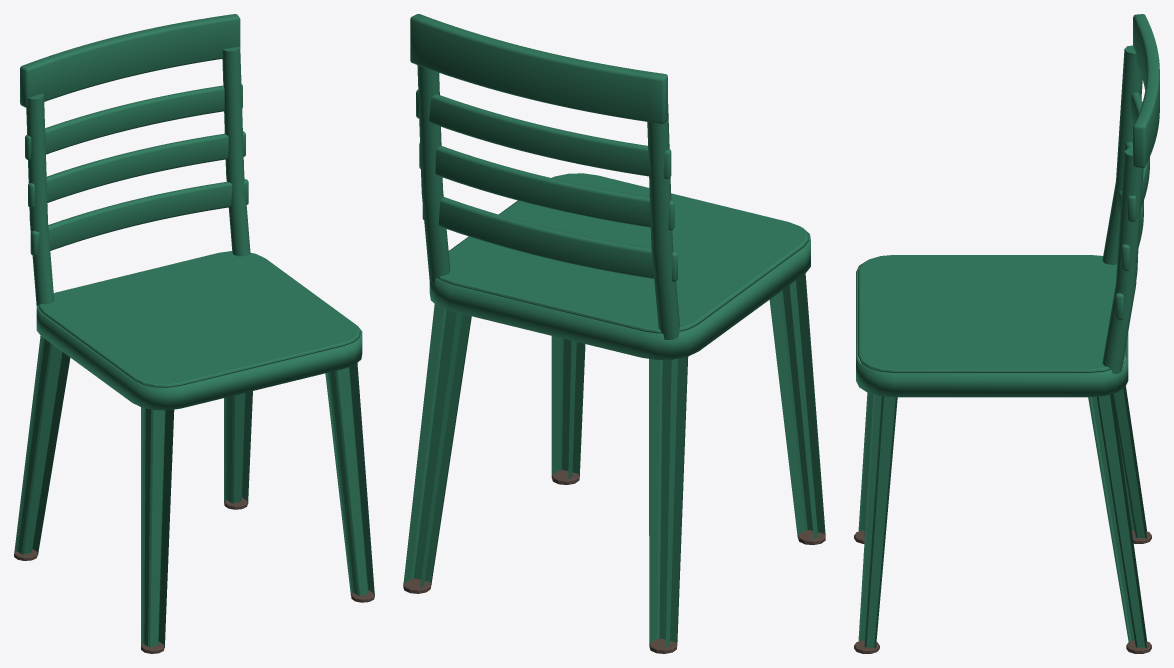
The model's file is SM_PlasticChair_Green.glb.
The picture shows the model from 3 angles, left to right: view 1: azimuth 30°, elevation 25°; view 2: azimuth 150°, elevation 25°; view 3: azimuth 270°, elevation 25°; orthographic projection. The views are drawn at different scales.
Parts seen in each view (by area): view 1: SM_PlasticChair; view 2: SM_PlasticChair; view 3: SM_PlasticChair.
Boxes of the visible parts, <box> form: SM_PlasticChair: <box>14,14,374,653</box>; SM_PlasticChair: <box>403,14,825,653</box>; SM_PlasticChair: <box>854,14,1159,653</box>.
Size of the model in its own units: 0.3938 by 0.7995 by 0.4227.
